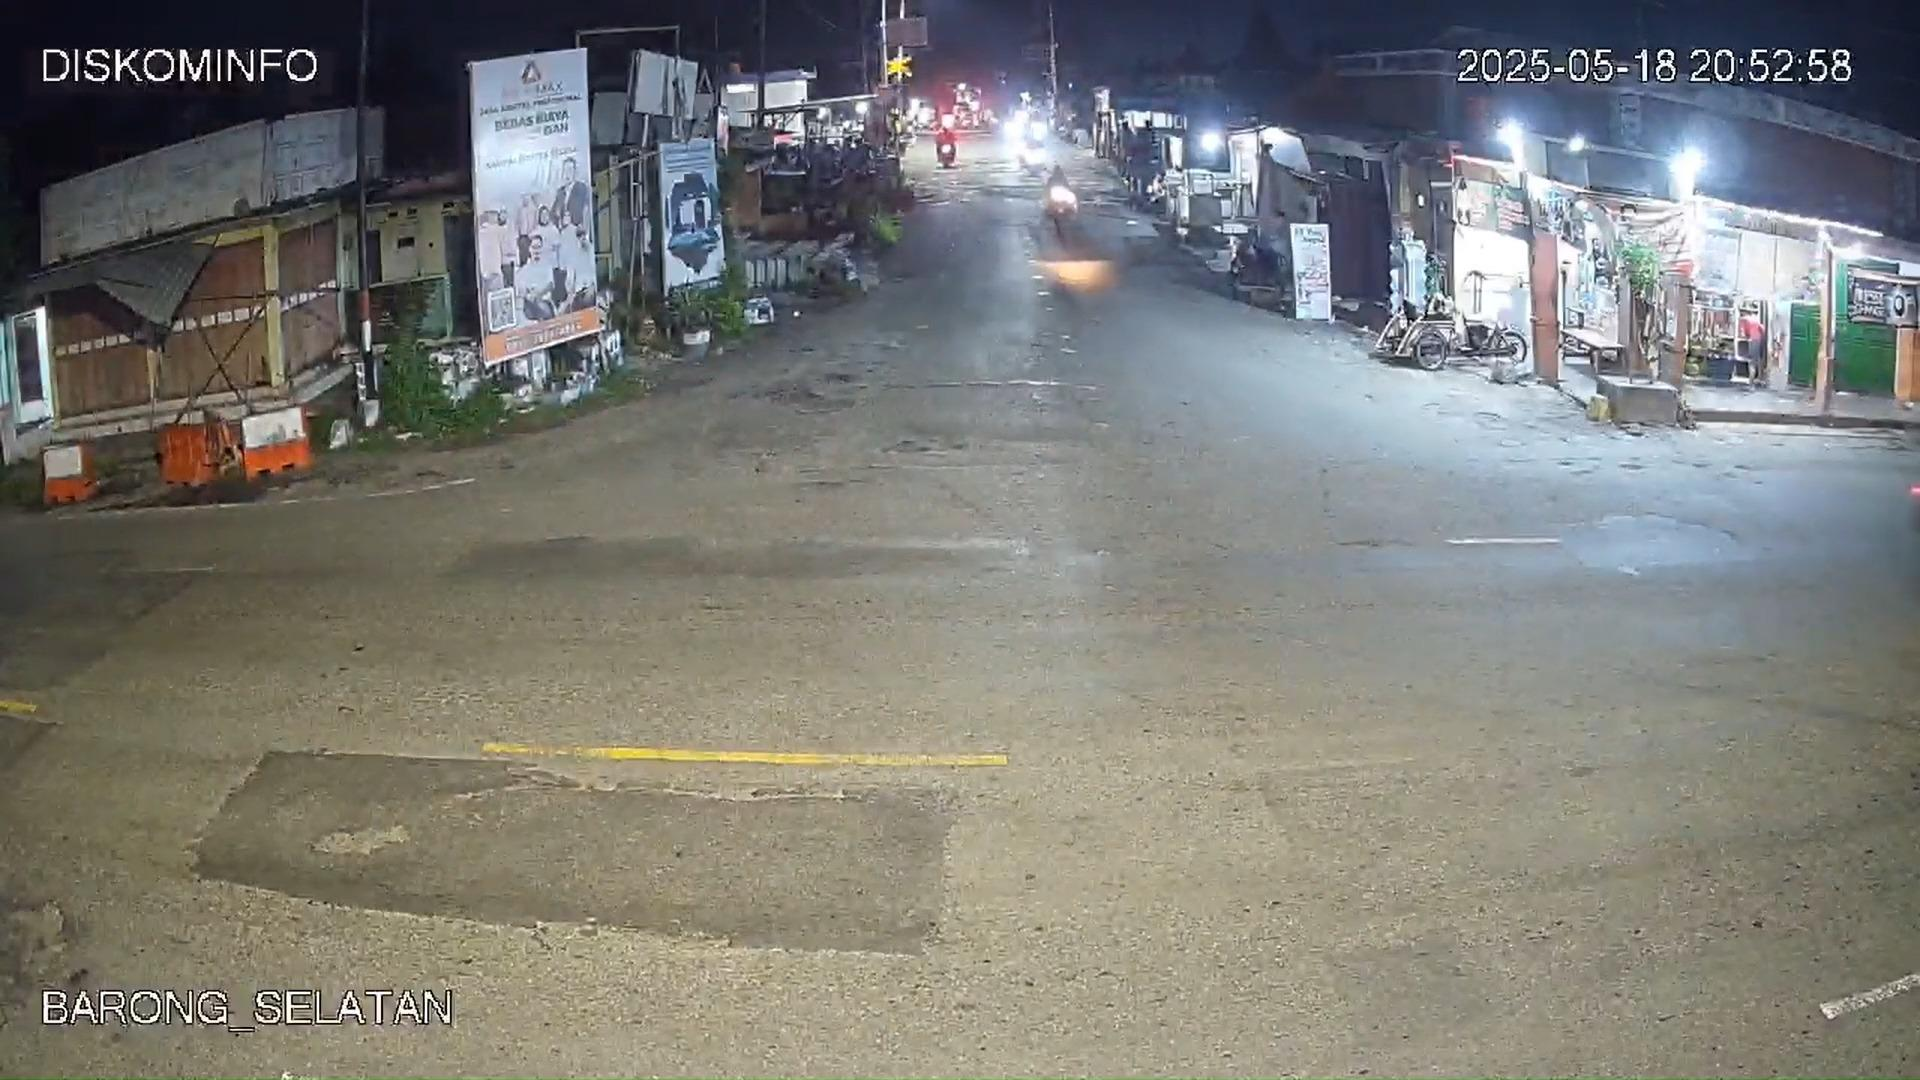Motor: (1044, 171, 1080, 241)
Truck: (948, 83, 985, 131)
